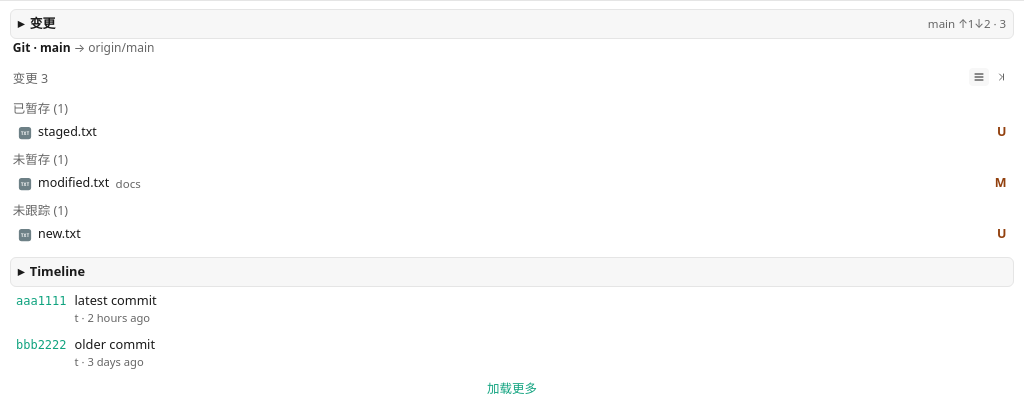
Test: GitPanel（分类化：变更/Timeline 分区） › 变更分区折叠不影响 Timeline（独立分区）
Expected: the button with class "git-commit" that starts with "aaa1111" is shown, x1=13 y1=287 x2=1011 y2=331
Click the button with class "git-section-head" showing "▸ 变更 main ↑1↓2 · 3".
click(967, 24)  # box x1=10 y1=9 x2=1014 y2=39
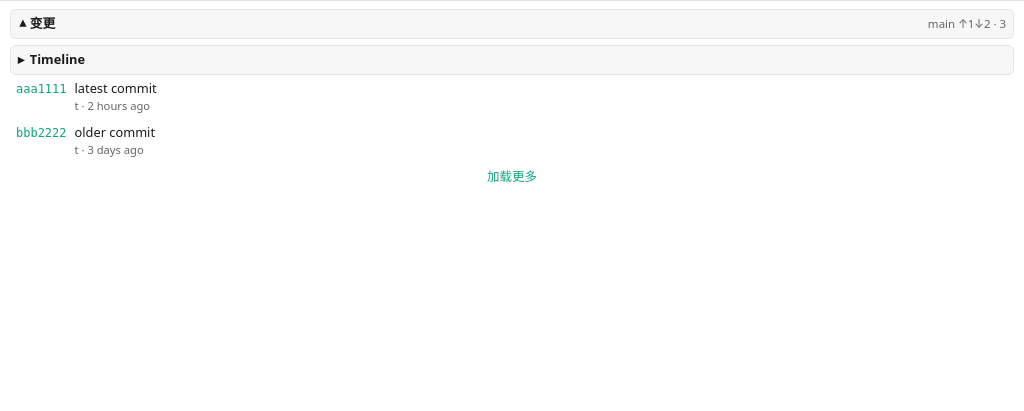
Expected: the button with class "git-commit" that starts with "aaa1111" is shown, x1=13 y1=75 x2=1011 y2=119
Expected: the element with class "git-title" is gone
